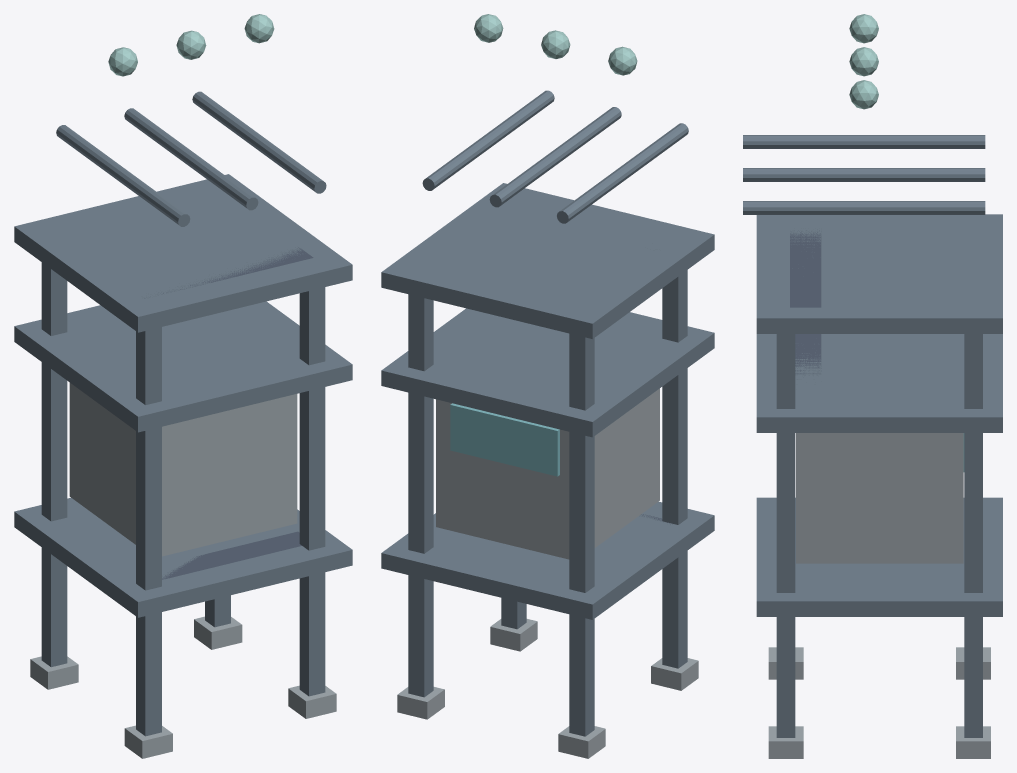
Rendered from relay_tower.glb.
The picture shows the model from 3 angles, left to right: view 1: azimuth 30°, elevation 25°; view 2: azimuth 150°, elevation 25°; view 3: azimuth 270°, elevation 25°; orthographic projection.
Parts seen in each view (by area): view 1: world; view 2: world; view 3: world.
Part boxes in pixels (box(x1,y1,x2,y2)): world: box(14, 14, 352, 758); world: box(381, 14, 714, 758); world: box(743, 14, 1002, 758).
Size of the model in its own units: 3.15 by 9.39 by 3.33.
